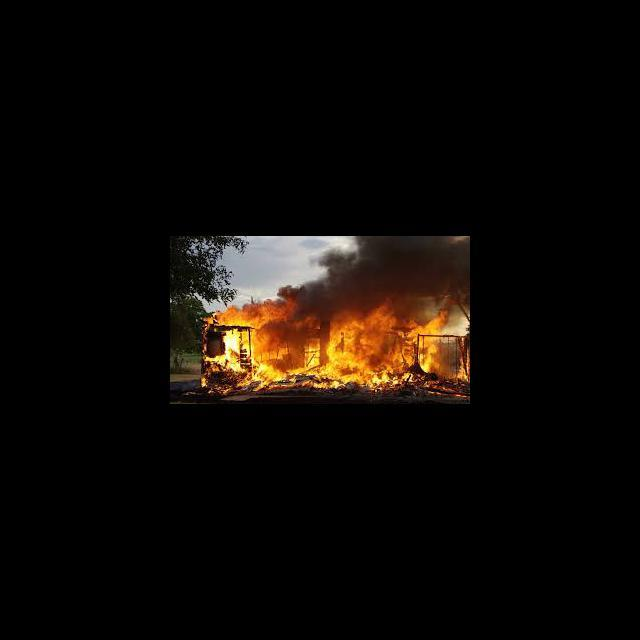Fire: (203, 300, 470, 396)
Smoke: (278, 237, 469, 300)
